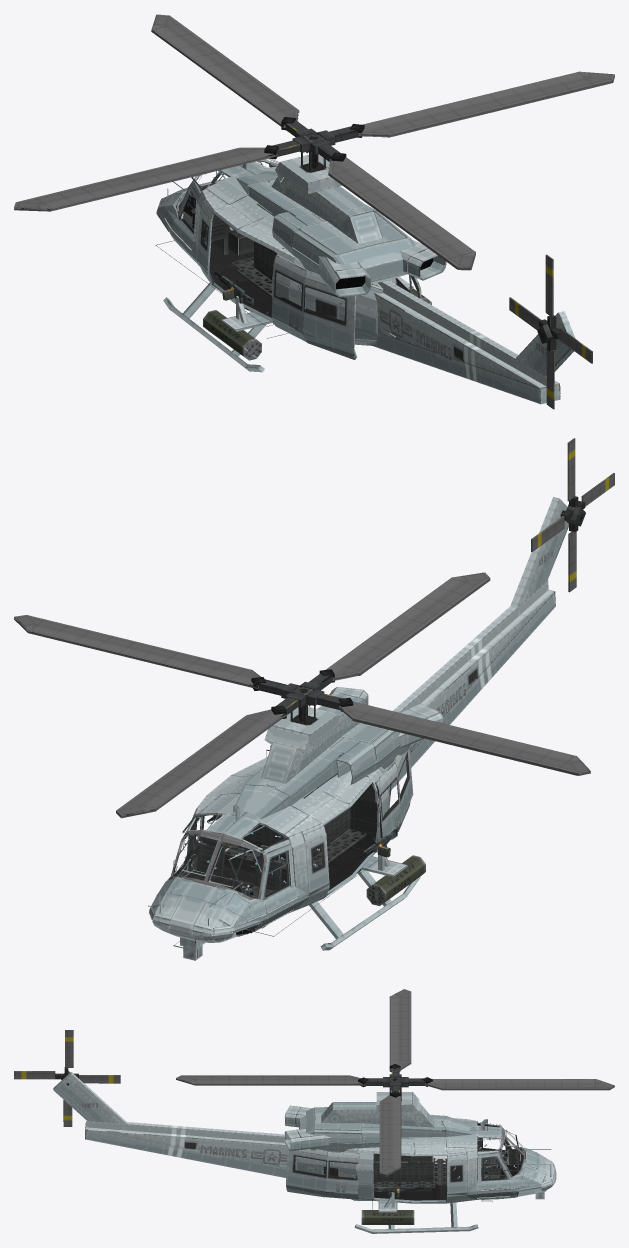
3 views of the same model, one above another, from view 1: azimuth 30°, elevation 25°; view 2: azimuth 150°, elevation 25°; view 3: azimuth 270°, elevation 25° (orthographic). The views are drawn at different scales.
Visible parts, largest first — view 1: base, wing, korpys, dver, tailPropeller, cube, heli-ski; view 2: base, korpys, wing, tailPropeller, dver, heli-ski, cube; view 3: base, korpys, wing, dver, tailPropeller, cube, heli-ski.
Part boxes in pixels (x1=…): base: x1=155, y1=158, x2=575, y2=404; wing: x1=14, y1=14, x2=614, y2=270; korpys: x1=156, y1=154, x2=446, y2=360; dver: x1=271, y1=255, x2=421, y2=359; tailPropeller: x1=509, y1=254, x2=592, y2=409; cube: x1=214, y1=271, x2=546, y2=360; heli-ski: x1=163, y1=275, x2=268, y2=372; base: x1=148, y1=497, x2=568, y2=951; korpys: x1=149, y1=687, x2=443, y2=960; wing: x1=14, y1=572, x2=590, y2=818; tailPropeller: x1=531, y1=438, x2=614, y2=592; dver: x1=375, y1=748, x2=413, y2=851; heli-ski: x1=309, y1=859, x2=420, y2=950; cube: x1=207, y1=550, x2=552, y2=870; base: x1=53, y1=1072, x2=551, y2=1209; korpys: x1=284, y1=1092, x2=556, y2=1224; wing: x1=176, y1=989, x2=614, y2=1176; dver: x1=286, y1=1148, x2=359, y2=1199; tailPropeller: x1=14, y1=1030, x2=120, y2=1126; cube: x1=81, y1=1103, x2=423, y2=1207; heli-ski: x1=354, y1=1166, x2=478, y2=1233.
Size of the model in its own units: 18.17 by 7.96 by 24.81.
